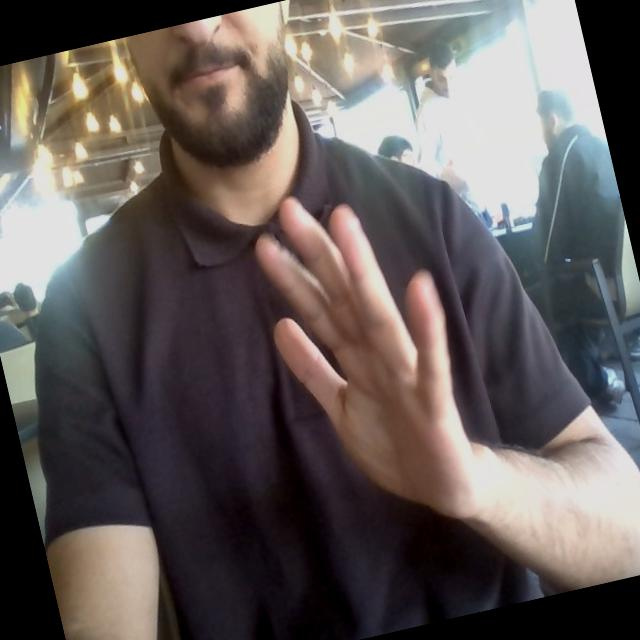Hand: (256, 199, 479, 518)
